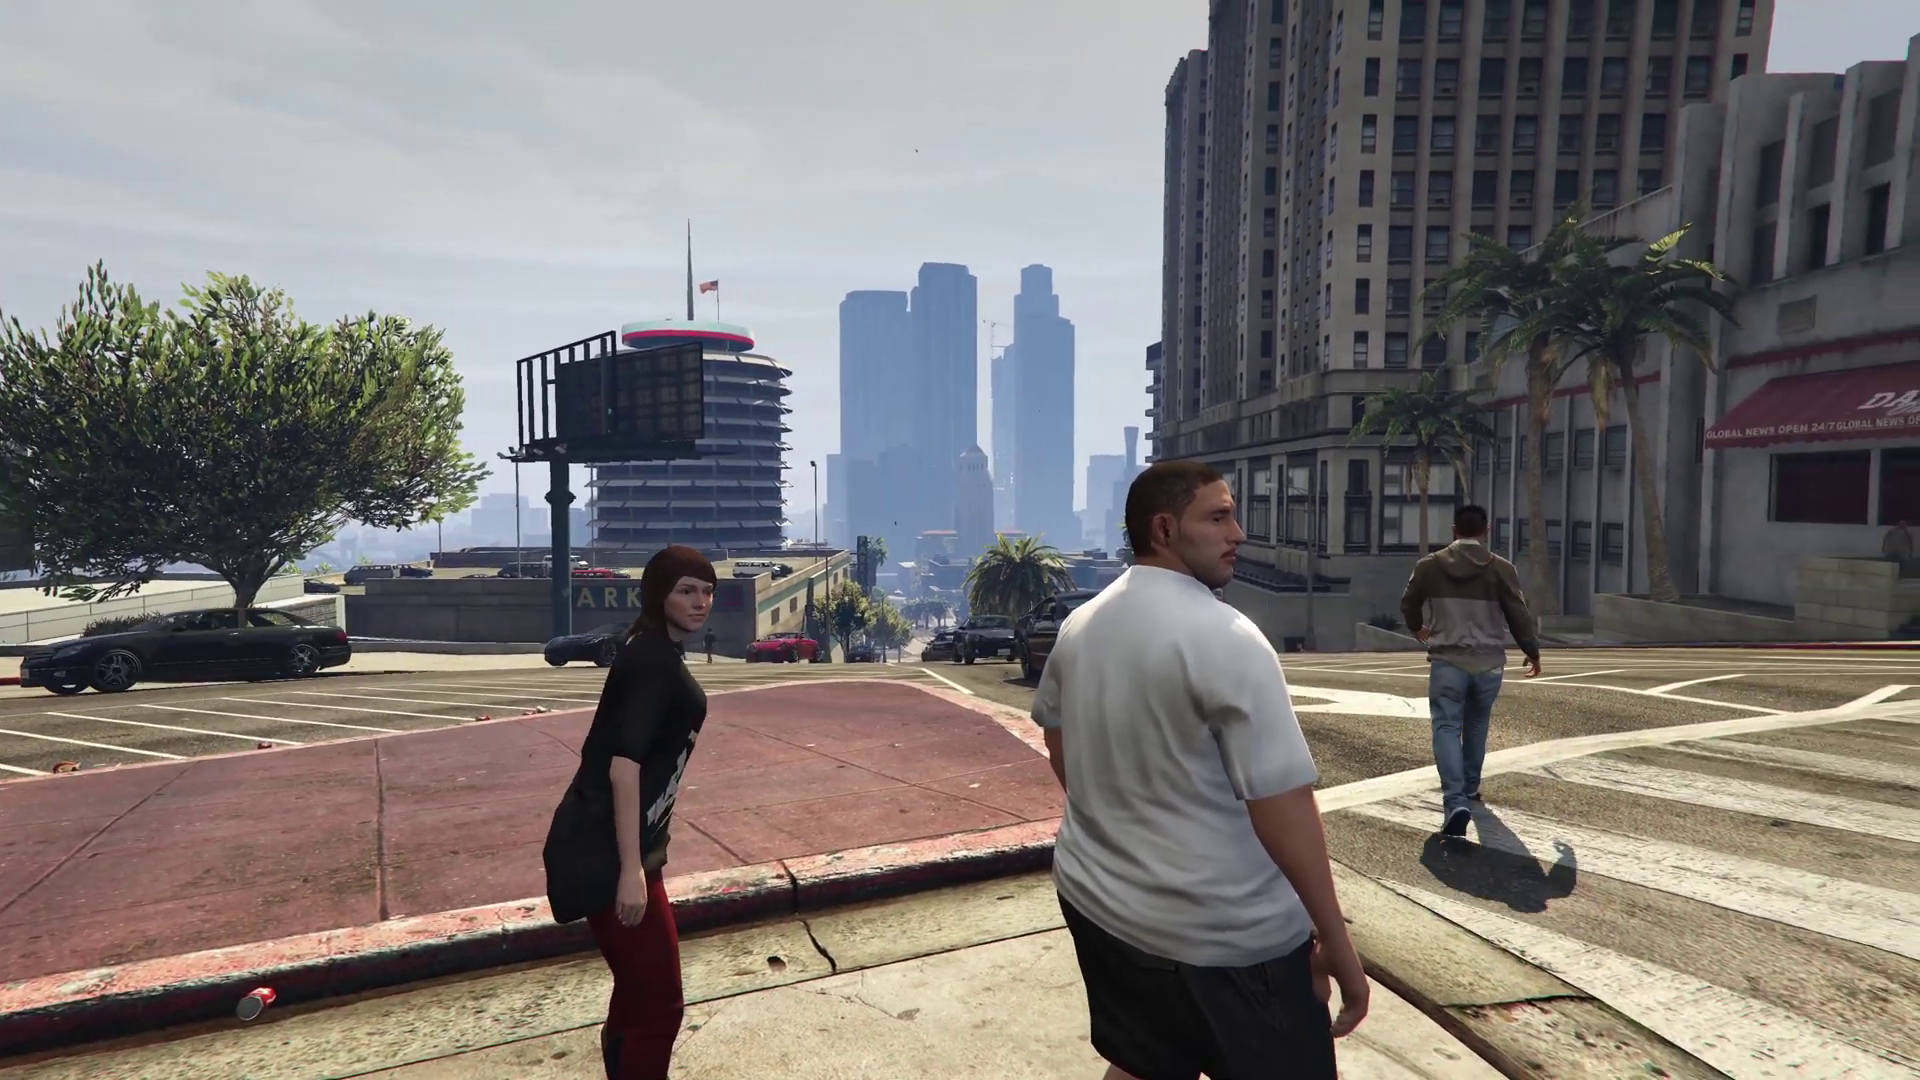car: (21, 609, 350, 696), (1022, 588, 1108, 681), (547, 620, 635, 665), (953, 616, 1018, 663), (743, 630, 819, 665), (497, 557, 549, 580), (924, 631, 959, 662), (343, 564, 392, 586), (734, 561, 782, 579), (843, 645, 880, 664), (303, 576, 339, 595), (395, 562, 434, 578), (570, 555, 587, 569)
person: (1036, 461, 1368, 1080), (542, 547, 717, 1080), (1391, 505, 1544, 848), (700, 627, 718, 664)
